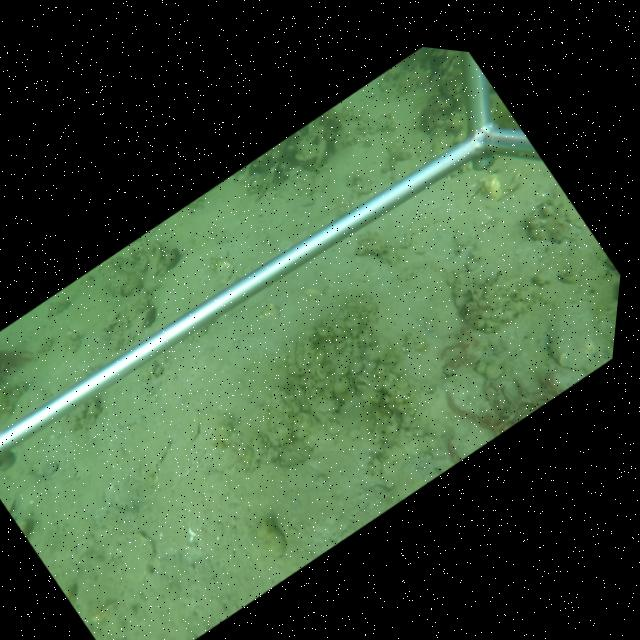Oyster-Closed: (134, 238, 165, 292), (137, 303, 157, 332), (300, 157, 324, 177), (346, 373, 356, 397)
Oyster-Indeterminate: (545, 300, 598, 374), (263, 525, 286, 560)
Oyster-Open: (266, 157, 290, 187)
